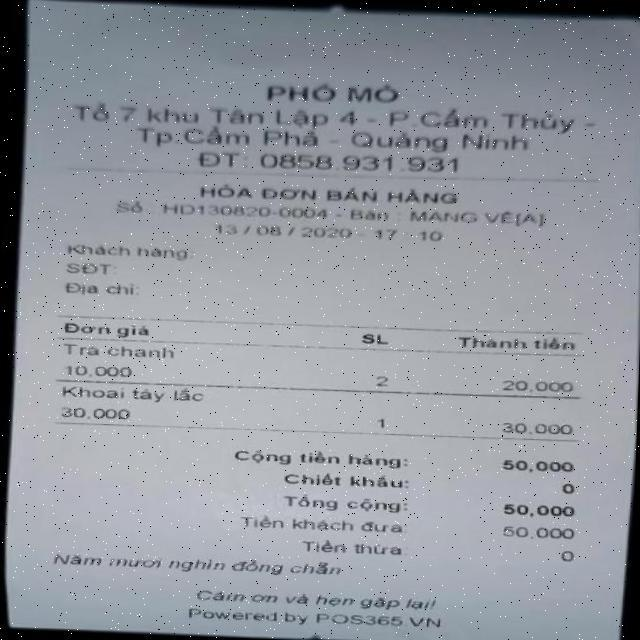Date: (198, 218, 361, 244)
Store_Name: (246, 75, 417, 108)
amount_number: (494, 496, 582, 524)
label_total: (281, 491, 404, 516)
